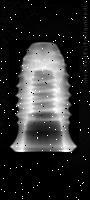Cowellmedi: (9, 40, 79, 153)
